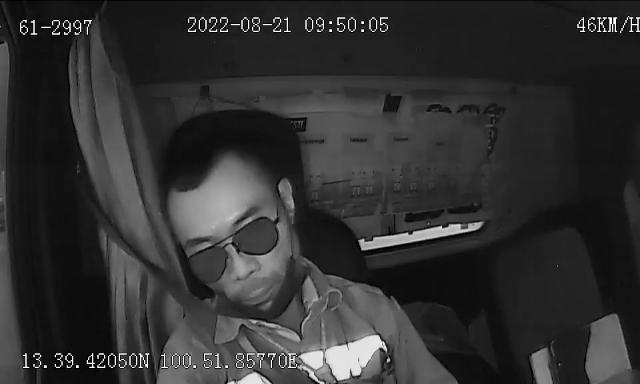SafeDriving: (415, 96, 459, 120)
Seatbelt: (118, 232, 322, 384)
